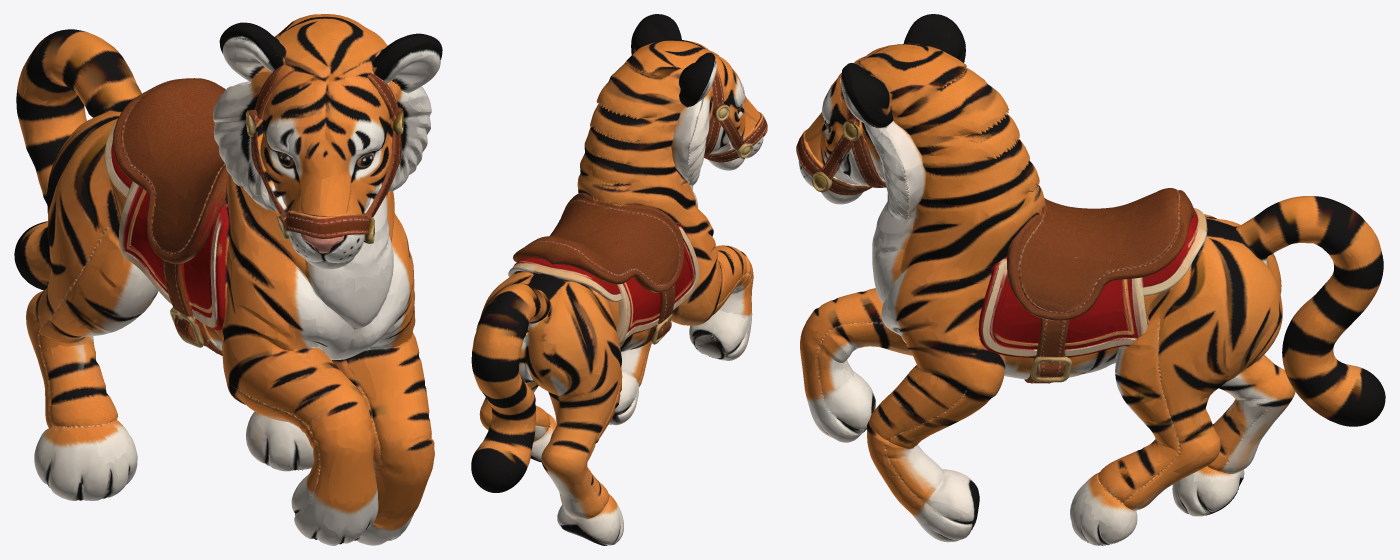
Rendered from tiger.glb.
3 renders of one model, left to right at view 1: azimuth 30°, elevation 25°; view 2: azimuth 150°, elevation 25°; view 3: azimuth 270°, elevation 25°, orthographic. The views are drawn at different scales.
Size of the model in its own units: 0.7412 by 1.76 by 1.9.
1 material, 1 textured.
